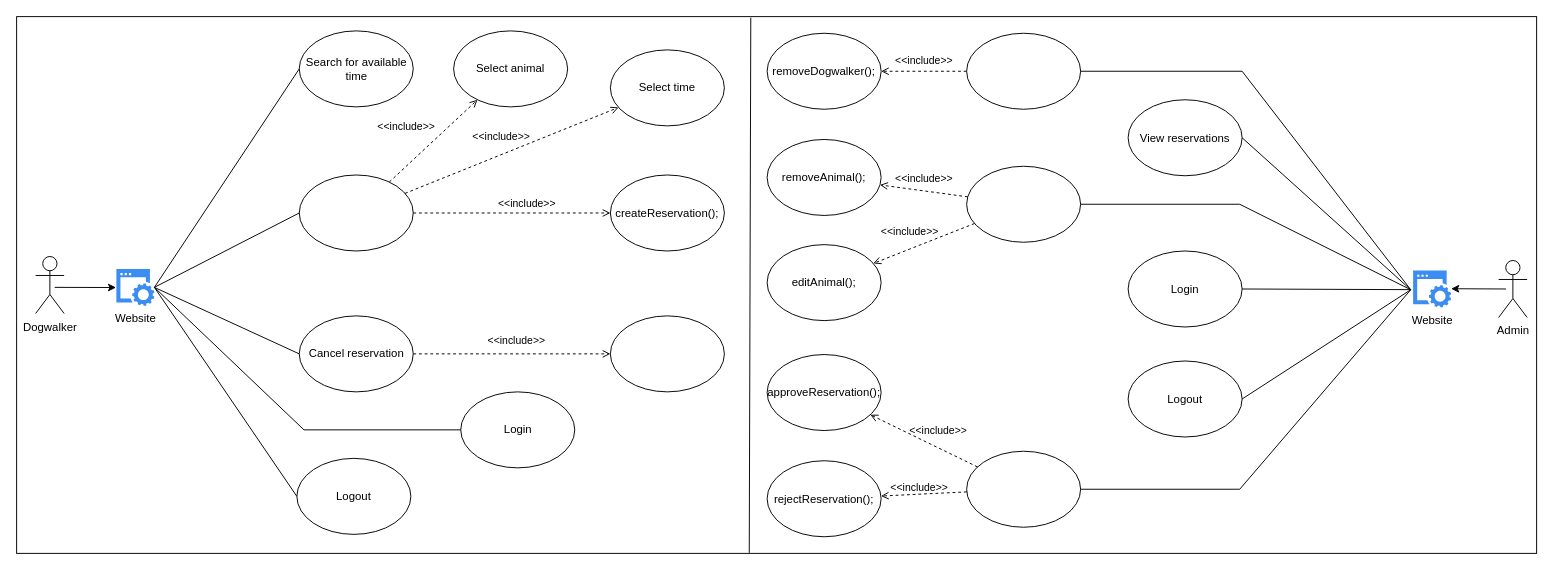
Image size: 1553x571. Some labels were removed from this diagram. Here are the shapes that lost their labels. From the top down, the box of each, then its label:
(966, 32, 1081, 109): Manage dogwalkers
(298, 174, 413, 251): Create reservation
(966, 165, 1081, 242): Manage animals
(609, 315, 724, 392): cancelReservation();
(966, 450, 1081, 527): Manage reservations
